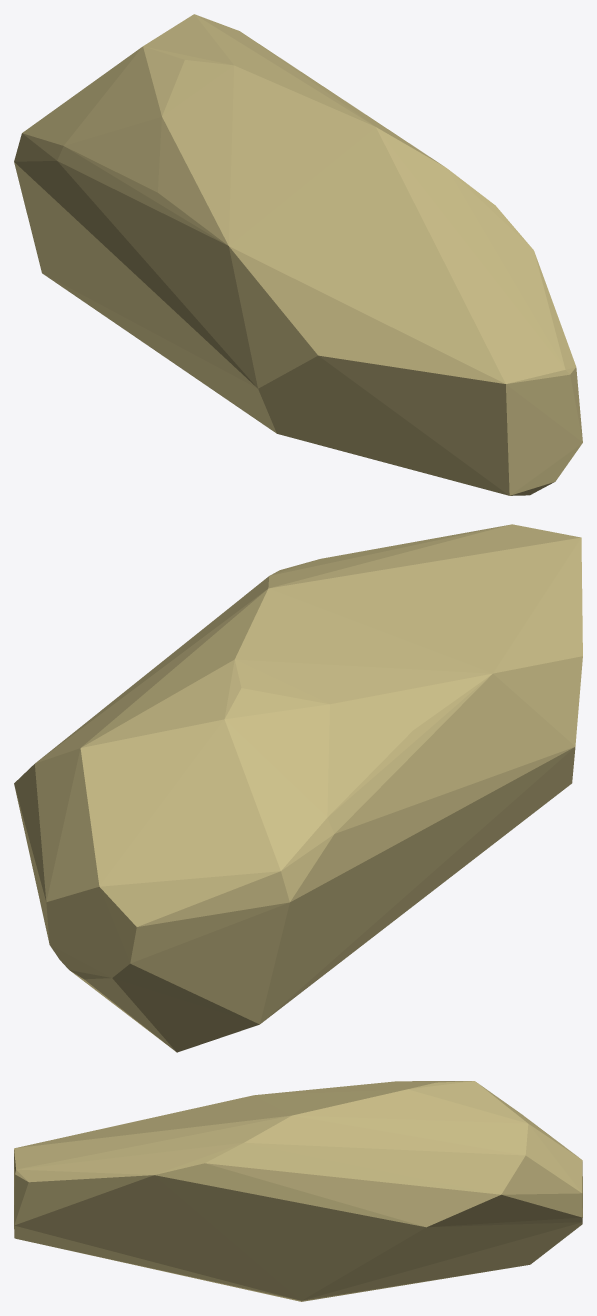
Rendered from misc_bottle_corked_a01.glb.
3 renders of one model, top to bottom at view 1: azimuth 30°, elevation 25°; view 2: azimuth 150°, elevation 25°; view 3: azimuth 270°, elevation 25°, orthographic. The views are drawn at different scales.
Parts seen in each view (by area): view 1: geometry_0; view 2: geometry_0; view 3: geometry_0.
Boxes of the visible parts, x1,y1,x2,y2 form: geometry_0: (14,14,582,495); geometry_0: (14,524,582,1052); geometry_0: (14,1081,582,1301).
Size of the model in its own units: 0.1867 by 0.1771 by 0.48.
